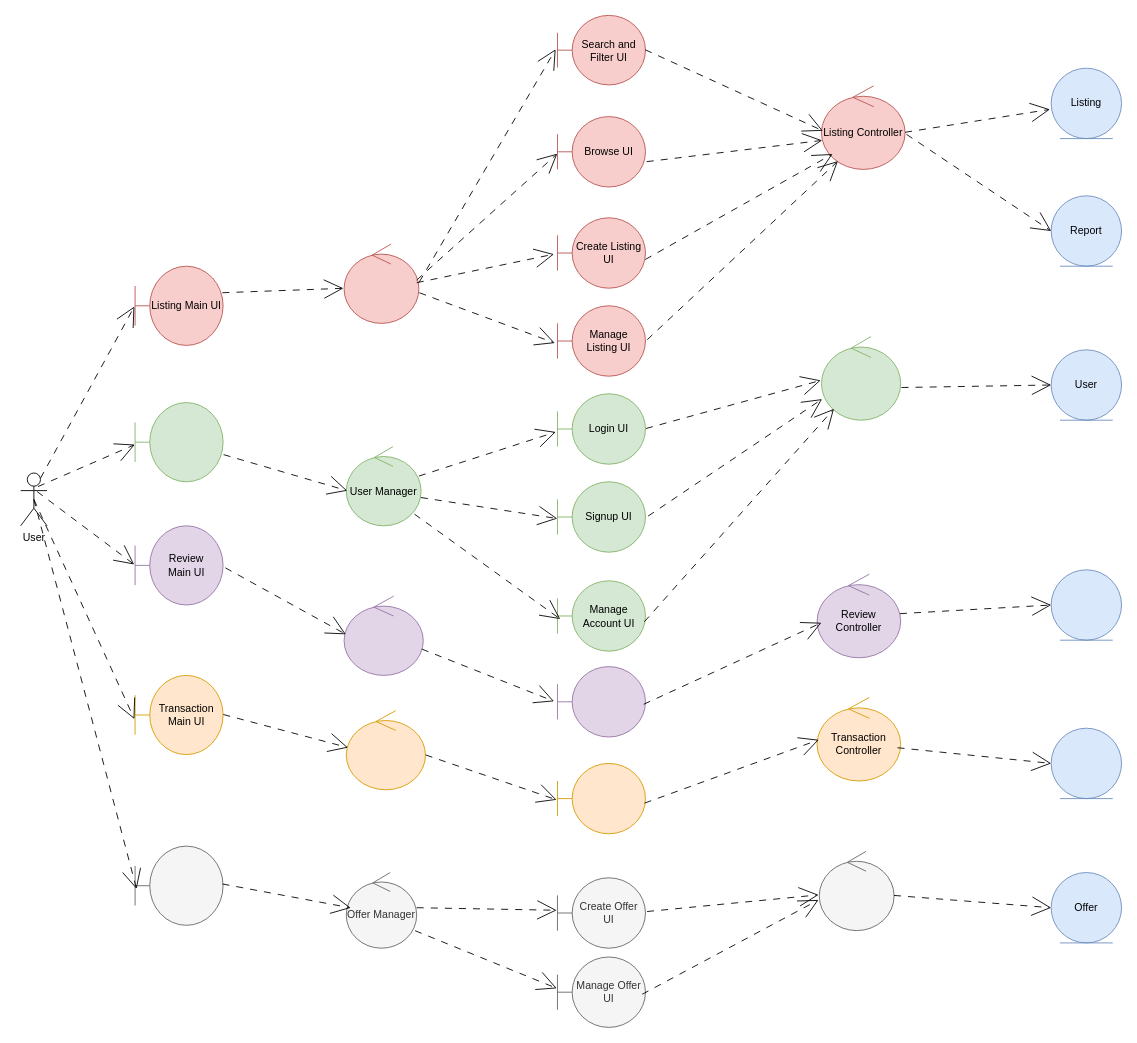
Some shapes in this 1137 by 1043 pixel diagram are drawn without their labels. The shapes that lost their labels are listed below. From the top down, each one's centre as x and y in pixels, then its label:
At point 381,283: "Listing Manager".
At point 861,378: "User Controller".
At point 178,442: "User Main UI".
At point 1086,604: "Review".
At point 383,635: "Review Manager".
At point 601,701: "Create Review UI".
At point 385,750: "Transaction Manager".
At point 1086,763: "Transaction".
At point 601,798: "View Transactions UI".
At point 178,885: "Offer Main UI".
At point 856,891: "Offer Controller".
